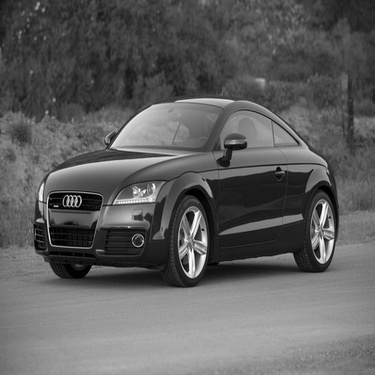car: (20, 90, 344, 292)
